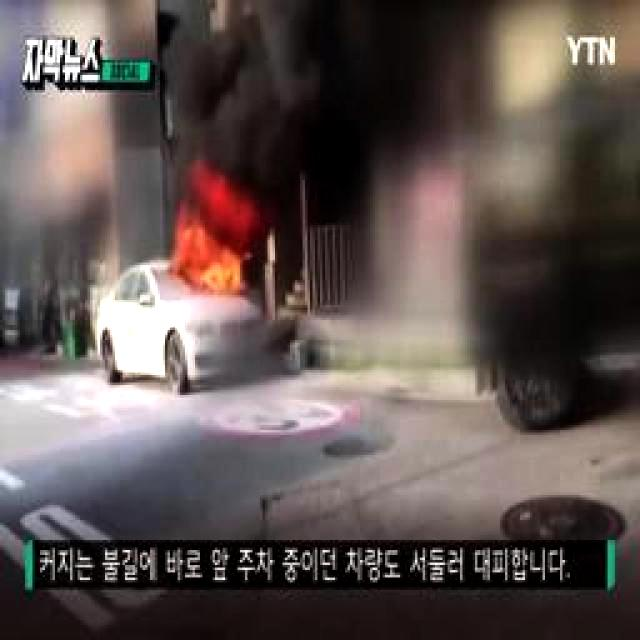fire: (171, 186, 255, 294)
